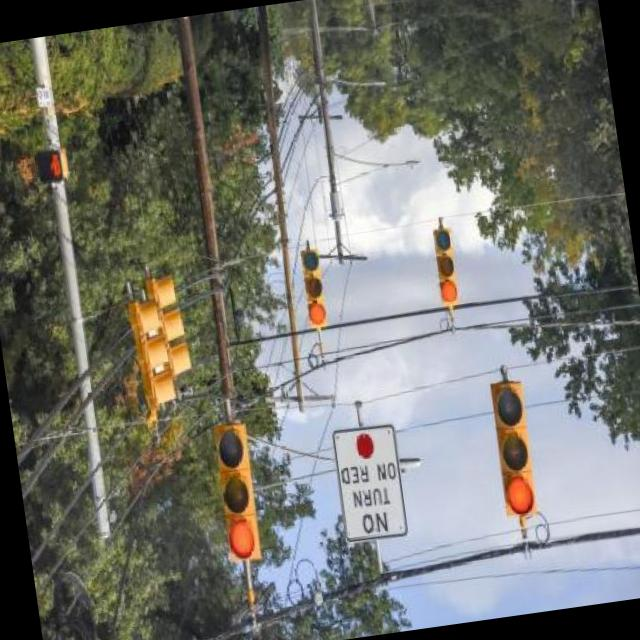red-lights: (226, 512, 262, 562), (503, 471, 537, 518), (434, 274, 460, 306), (304, 296, 326, 330)
